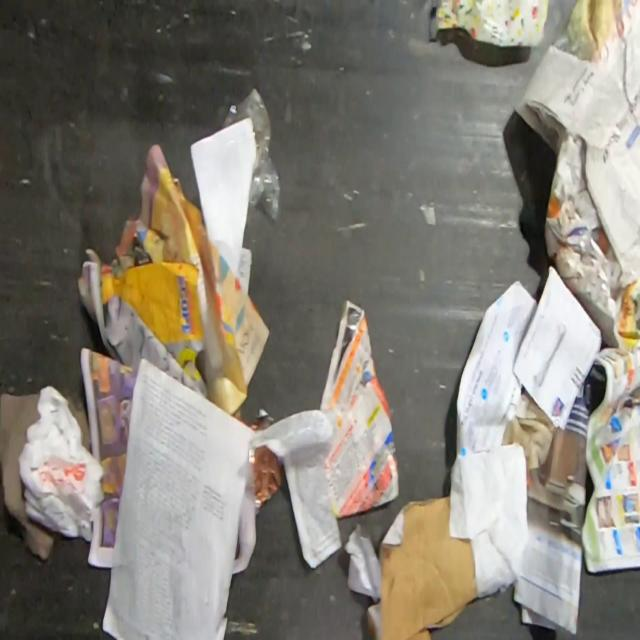cardboard: (366, 495, 478, 640)
soft_plastic: (222, 82, 281, 221), (434, 0, 550, 51)
